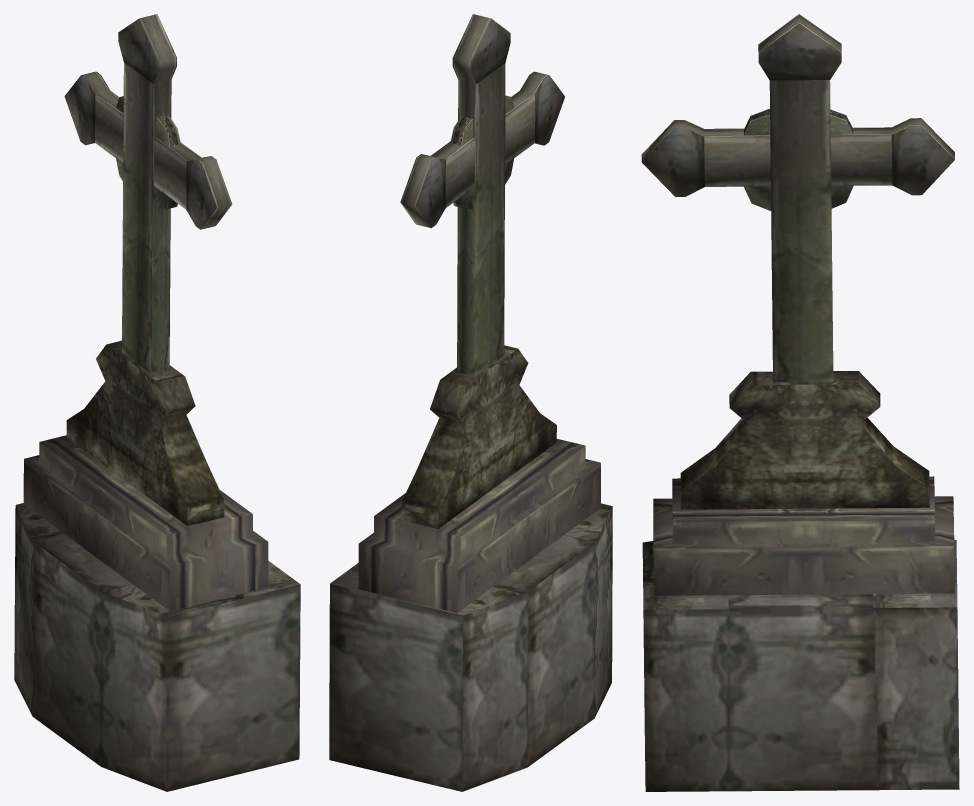
Rendered from S_Build_Muxue041.FBX.
3 views of the same model, side by side, from view 1: azimuth 30°, elevation 25°; view 2: azimuth 150°, elevation 25°; view 3: azimuth 270°, elevation 25° (orthographic). The views are drawn at different scales.
Parts seen in each view (by area): view 1: S_Build_Muxue041; view 2: S_Build_Muxue041; view 3: S_Build_Muxue041.
Boxes of the visible parts, x1=… form: S_Build_Muxue041: x1=14, y1=14, x2=300, y2=791; S_Build_Muxue041: x1=329, y1=14, x2=612, y2=791; S_Build_Muxue041: x1=641, y1=14, x2=959, y2=791.
Bounding box in the file's own units: 103 × 173 × 441.
